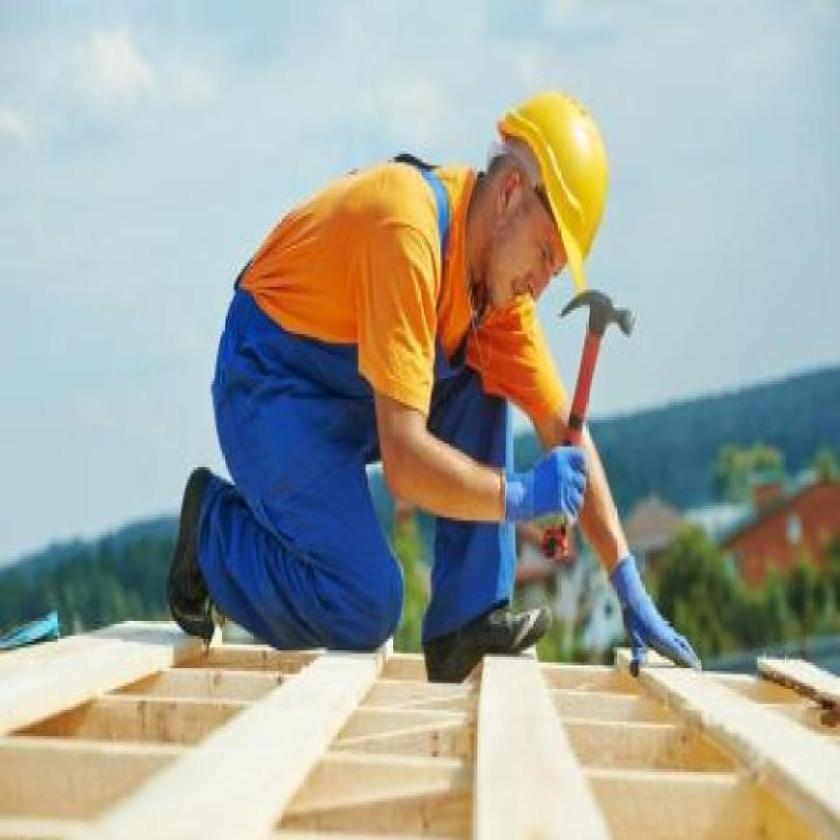Con_casco: (468, 73, 601, 308)
